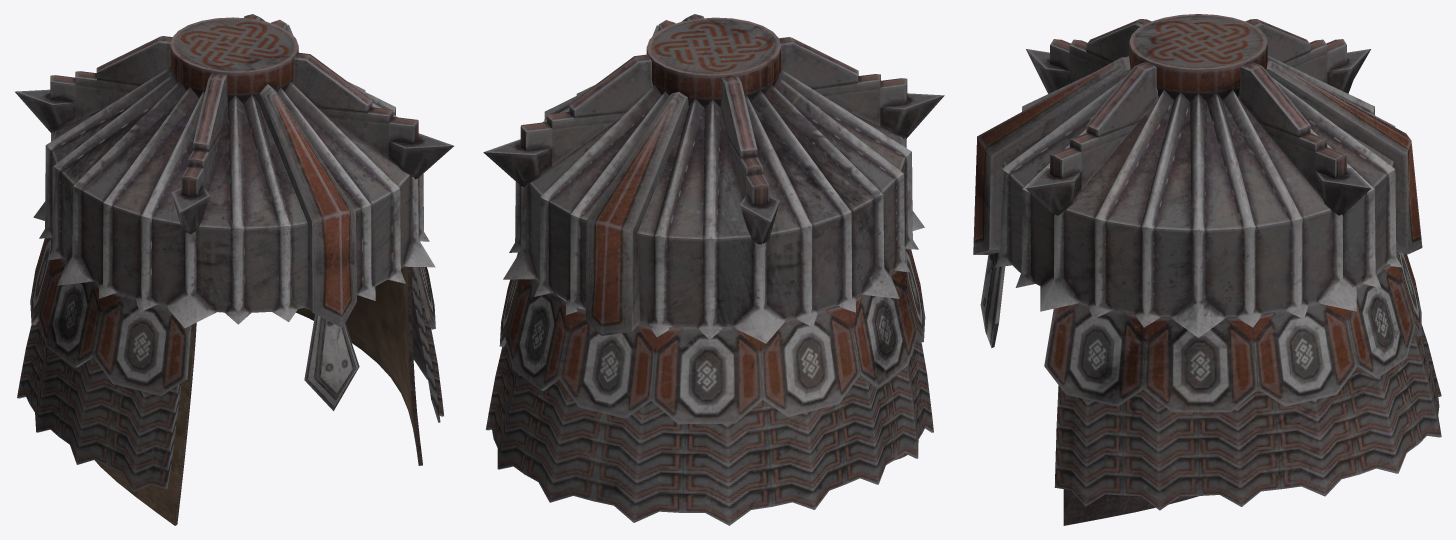
Rendered from sk_dwarf_iron_helmet_elite_b3.fbx.
The picture shows the model from 3 angles, left to right: view 1: azimuth 30°, elevation 25°; view 2: azimuth 150°, elevation 25°; view 3: azimuth 270°, elevation 25°; orthographic projection. The views are drawn at different scales.
Parts seen in each view (by area): view 1: sk_dwarf_iron_helmet_elite_b3.1, sk_dwarf_iron_helmet_elite_b3.0; view 2: sk_dwarf_iron_helmet_elite_b3.1, sk_dwarf_iron_helmet_elite_b3.0; view 3: sk_dwarf_iron_helmet_elite_b3.1, sk_dwarf_iron_helmet_elite_b3.0.
Boxes of the visible parts, left/top/right/bottom form: sk_dwarf_iron_helmet_elite_b3.1: left=15, top=14, right=453, bottom=525; sk_dwarf_iron_helmet_elite_b3.0: left=17, top=238, right=443, bottom=491; sk_dwarf_iron_helmet_elite_b3.1: left=483, top=14, right=944, bottom=460; sk_dwarf_iron_helmet_elite_b3.0: left=486, top=249, right=933, bottom=525; sk_dwarf_iron_helmet_elite_b3.1: left=973, top=14, right=1422, bottom=525; sk_dwarf_iron_helmet_elite_b3.0: left=1044, top=251, right=1441, bottom=510.
Size of the model in its own units: 0.2993 by 0.3275 by 0.325.
